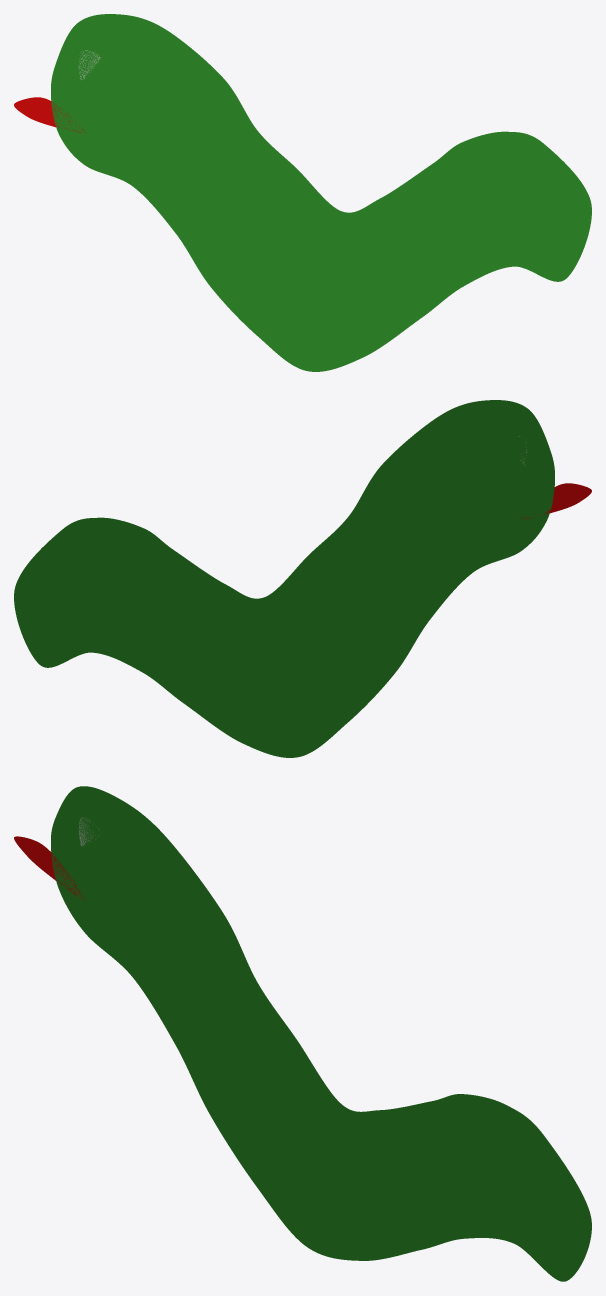
File: serpente.obj
3 views of the same model, one above another, from view 1: azimuth 30°, elevation 25°; view 2: azimuth 150°, elevation 25°; view 3: azimuth 330°, elevation 25° (orthographic).
Visible parts, largest first — view 1: Curva_1, Curva_3; view 2: Curva_1, Curva_3; view 3: Curva_1, Curva_3.
Part boxes in pixels (x1,y1,x2,y2): Curva_1: (51,14,591,371); Curva_3: (14,97,84,133); Curva_1: (14,400,554,757); Curva_3: (521,483,591,519); Curva_1: (51,786,591,1281); Curva_3: (14,836,85,900).
Bounding box in the file's own units: 0.3496 × 0.2382 × 0.
